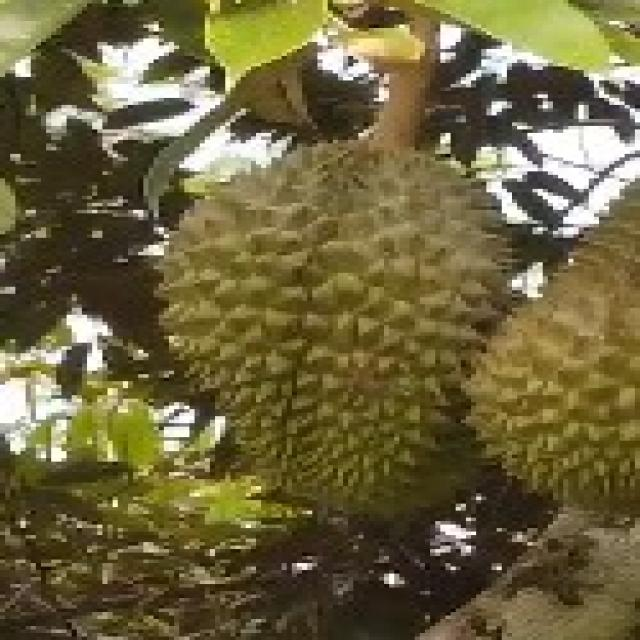immature: (151, 143, 532, 525)
